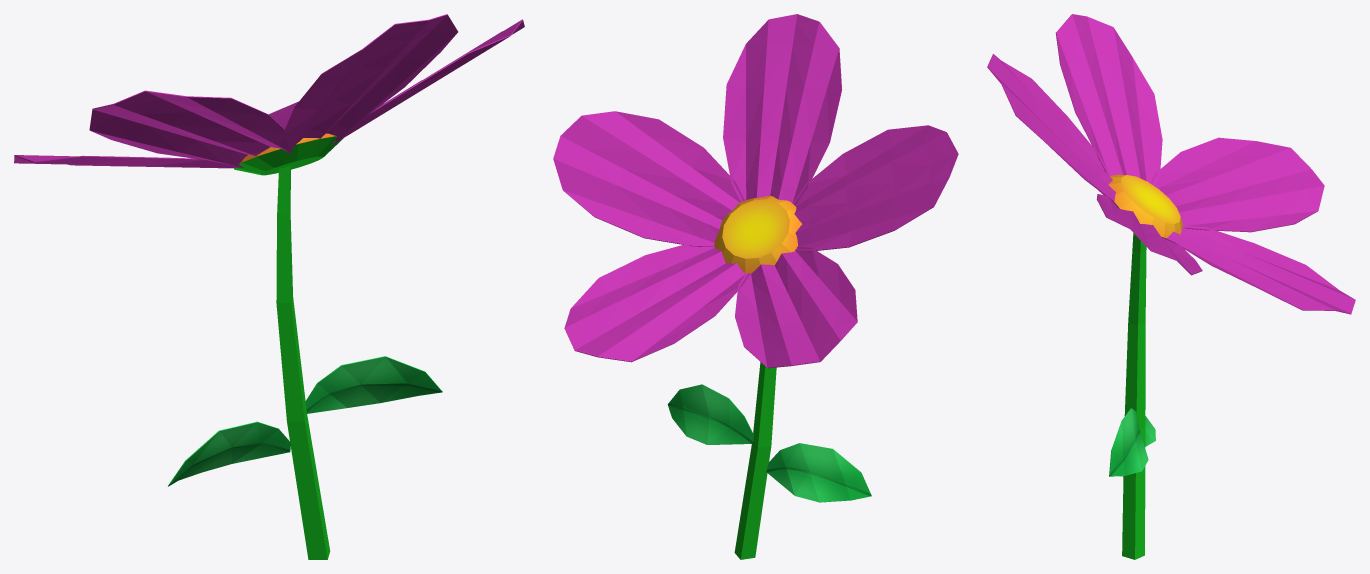
File: flower1.obj
3 renders of one model, left to right at view 1: azimuth 30°, elevation 25°; view 2: azimuth 150°, elevation 25°; view 3: azimuth 270°, elevation 25°, orthographic. The views are drawn at different scales.
Visible parts, largest first — view 1: flower1_Circle.013; view 2: flower1_Circle.013; view 3: flower1_Circle.013.
Boxes of the visible parts, x1,y1,x2,y2 form: flower1_Circle.013: (14,14,524,559); flower1_Circle.013: (553,14,958,559); flower1_Circle.013: (987,14,1355,559).
Bounding box in the file's own units: 1.21 × 1.52 × 1.01.
